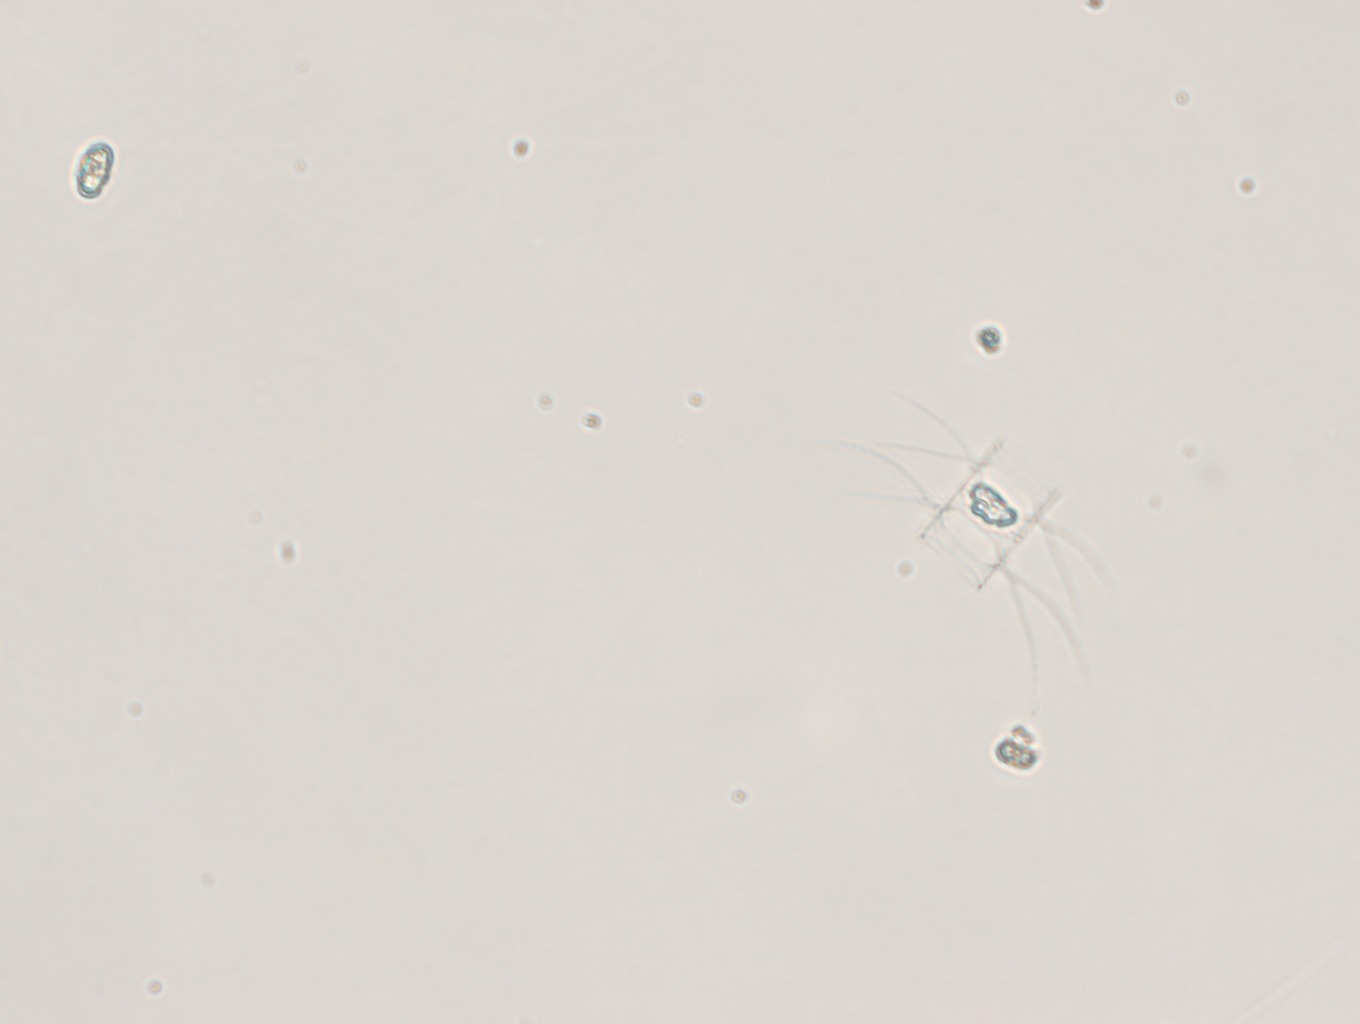chaetoceros: (844, 397, 1139, 694)
